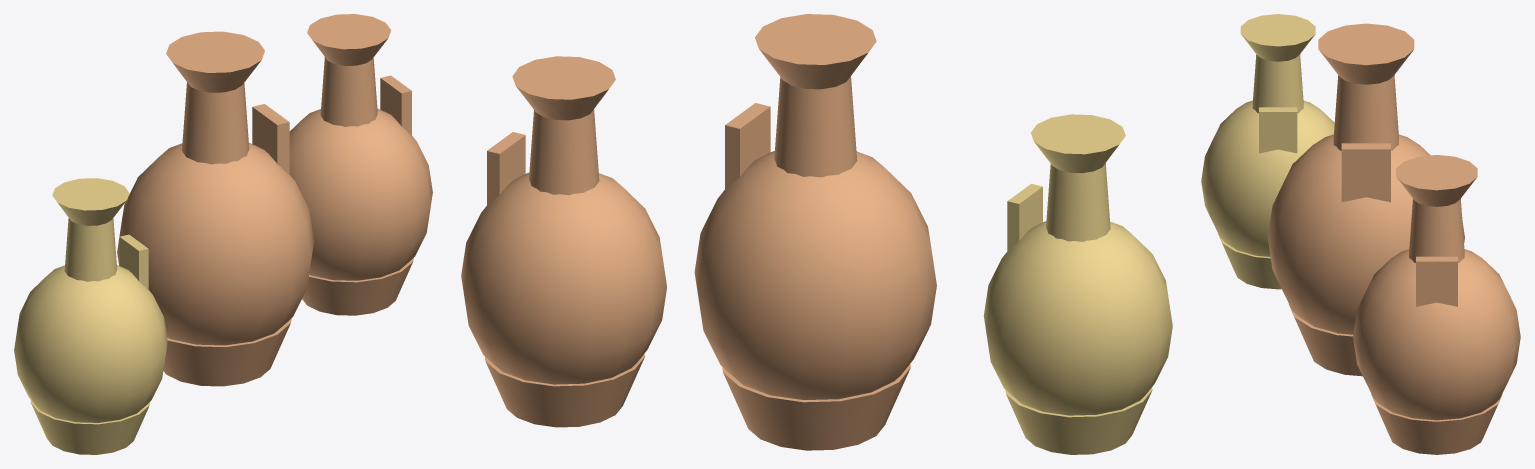
Rendered from prop_copper_jugs.glb.
The picture shows the model from 3 angles, left to right: view 1: azimuth 30°, elevation 25°; view 2: azimuth 150°, elevation 25°; view 3: azimuth 270°, elevation 25°; orthographic projection. The views are drawn at different scales.
Visible parts, largest first — view 1: prop_copper_jugs; view 2: prop_copper_jugs; view 3: prop_copper_jugs.
Part boxes in pixels (left/top/right/bottom): prop_copper_jugs: left=14, top=14, right=432, bottom=454; prop_copper_jugs: left=461, top=14, right=1172, bottom=454; prop_copper_jugs: left=1201, top=14, right=1520, bottom=454.
Bounding box in the file's own units: 1.56 × 0.965 × 0.9064.
